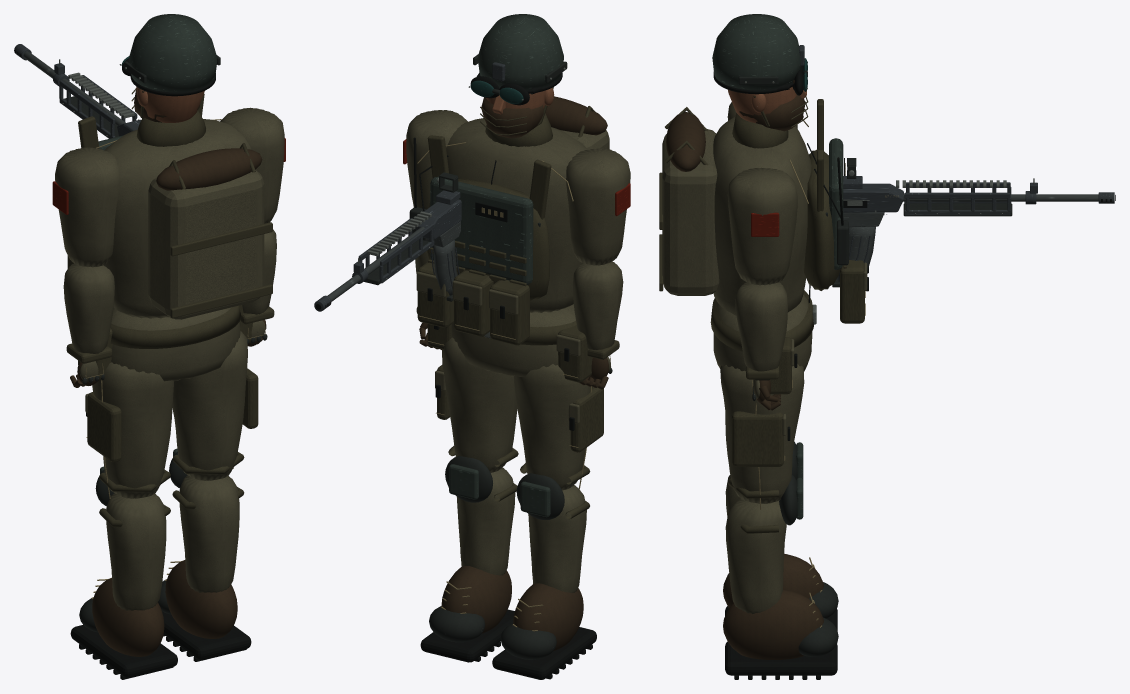
File: raider_rifle.glb
The picture shows the model from 3 angles, left to right: view 1: azimuth 30°, elevation 25°; view 2: azimuth 150°, elevation 25°; view 3: azimuth 270°, elevation 25°; orthographic projection. The views are drawn at different scales.
Visible parts, largest first — view 1: Torso_mesh, LeftShin_mesh, RightShin_mesh, LeftThigh_mesh, RightThigh_mesh, Head_mesh, Hips_mesh, LeftArm_mesh, LeftForearm_mesh, R7_Carbine.001_mesh, RightArm_mesh, RightForearm_mesh (+1 smaller); view 2: Torso_mesh, LeftShin_mesh, RightShin_mesh, Head_mesh, LeftThigh_mesh, RightThigh_mesh, LeftArm_mesh, Hips_mesh, R7_Carbine.001_mesh, LeftForearm_mesh, RightArm_mesh, Magazine.001_mesh (+1 smaller); view 3: Torso_mesh, RightShin_mesh, Head_mesh, RightThigh_mesh, R7_Carbine.001_mesh, RightArm_mesh, RightForearm_mesh, Hips_mesh, LeftShin_mesh, Magazine.001_mesh.
Boxes of the visible parts, box(x1,y1,x2,y2) form: Torso_mesh: box(67, 93, 272, 319); LeftShin_mesh: box(70, 466, 177, 679); RightShin_mesh: box(158, 448, 251, 661); LeftThigh_mesh: box(85, 362, 174, 498); RightThigh_mesh: box(172, 331, 258, 480); Head_mesh: box(119, 14, 220, 122); Hips_mesh: box(78, 305, 252, 381); LeftArm_mesh: box(52, 147, 120, 267); LeftForearm_mesh: box(63, 263, 114, 363); R7_Carbine.001_mesh: box(14, 44, 141, 138); RightArm_mesh: box(220, 107, 285, 223); RightForearm_mesh: box(240, 229, 276, 324); Torso_mesh: box(409, 96, 609, 345); LeftShin_mesh: box(492, 463, 596, 679); RightShin_mesh: box(420, 445, 518, 662); Head_mesh: box(468, 14, 567, 138); LeftThigh_mesh: box(513, 364, 603, 490); RightThigh_mesh: box(435, 337, 517, 472); LeftArm_mesh: box(566, 148, 630, 265); Hips_mesh: box(427, 304, 592, 382); R7_Carbine.001_mesh: box(314, 172, 461, 311); LeftForearm_mesh: box(573, 261, 623, 359); RightArm_mesh: box(403, 110, 467, 209); Magazine.001_mesh: box(431, 240, 459, 301); Torso_mesh: box(659, 99, 868, 323); RightShin_mesh: box(723, 475, 838, 679); Head_mesh: box(712, 14, 808, 131); RightThigh_mesh: box(720, 364, 804, 509); R7_Carbine.001_mesh: box(843, 158, 1115, 227); RightArm_mesh: box(727, 167, 797, 285); RightForearm_mesh: box(735, 282, 787, 379); Hips_mesh: box(710, 290, 816, 394); LeftShin_mesh: box(723, 442, 838, 630); Magazine.001_mesh: box(832, 226, 875, 287).
Size of the model in its own units: 0.631 by 1.75 by 1.14.
1 material, 1 textured.
